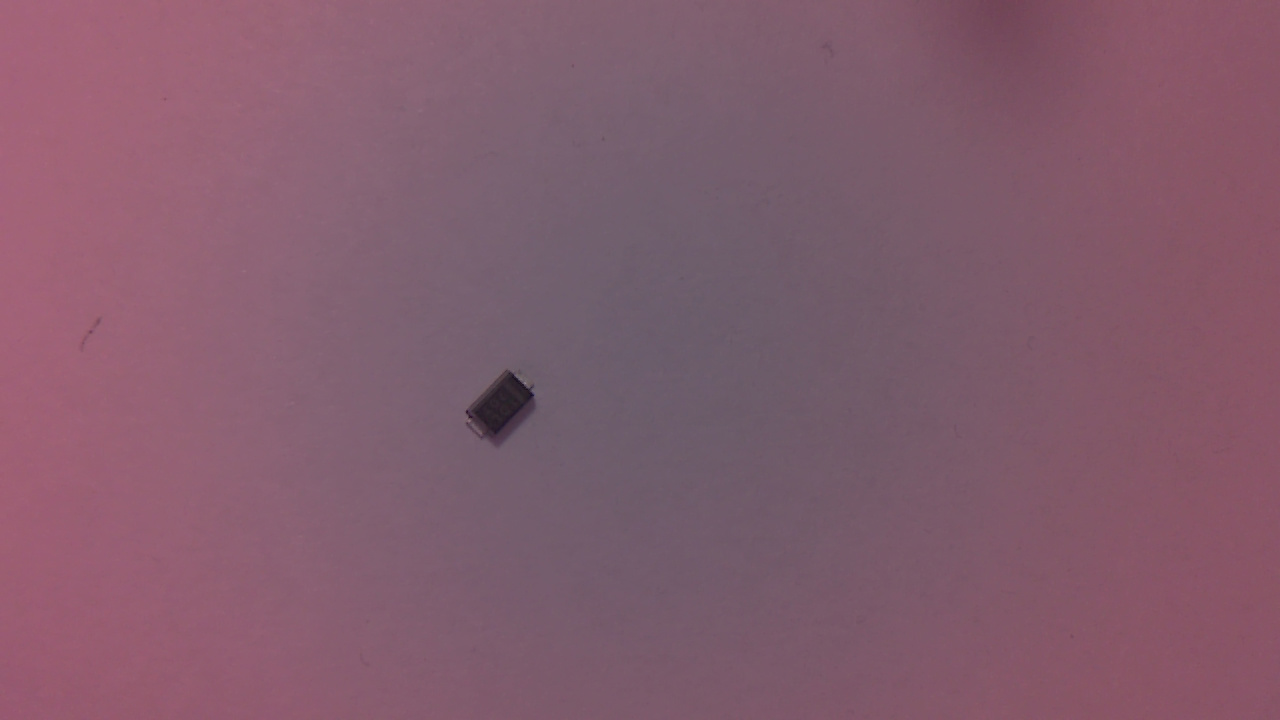Diode: (469, 372, 544, 445)
